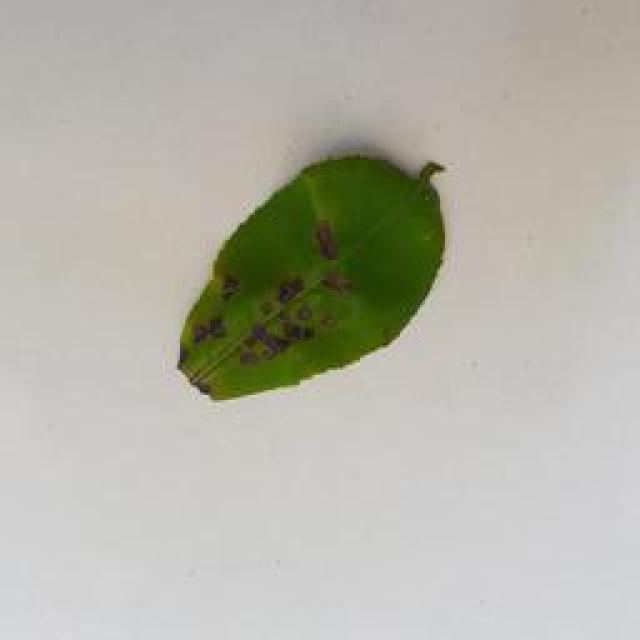Helopeltis: (167, 148, 449, 412)
